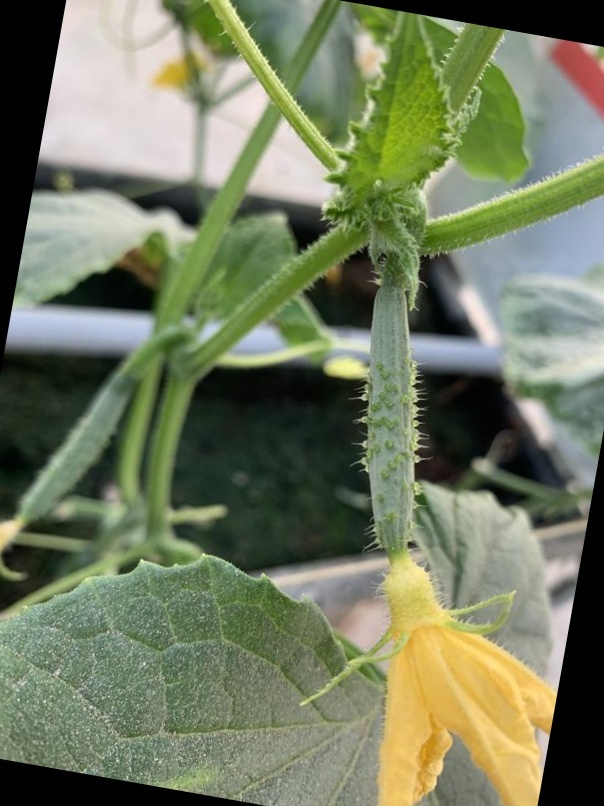bear: (314, 244, 604, 779)
